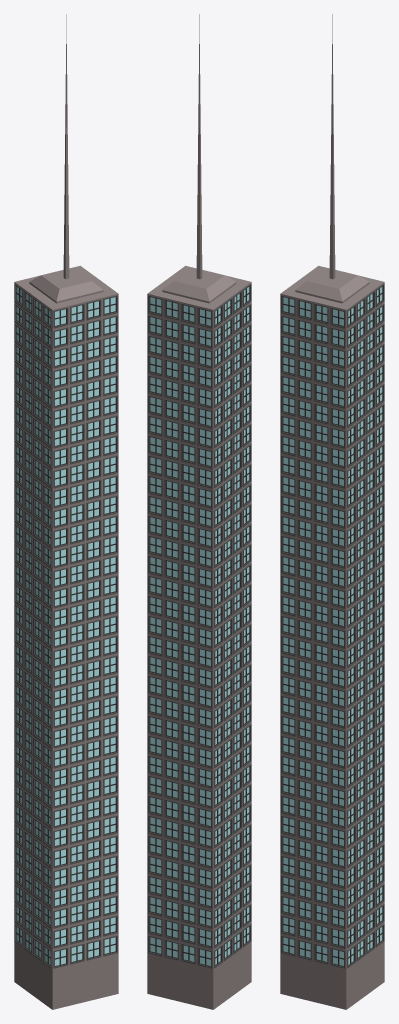
The model's file is Scraper blk.fbx.
3 views of the same model, side by side, from view 1: azimuth 30°, elevation 25°; view 2: azimuth 150°, elevation 25°; view 3: azimuth 330°, elevation 25° (orthographic).
Visible parts, largest first — view 1: Cube; view 2: Cube; view 3: Cube.
Part boxes in pixels (box(x1,y1,x2,y2)): Cube: box(14, 14, 118, 1009); Cube: box(147, 14, 251, 1009); Cube: box(280, 14, 384, 1009).
Bounding box in the file's own units: 1332 × 18371 × 1332.
